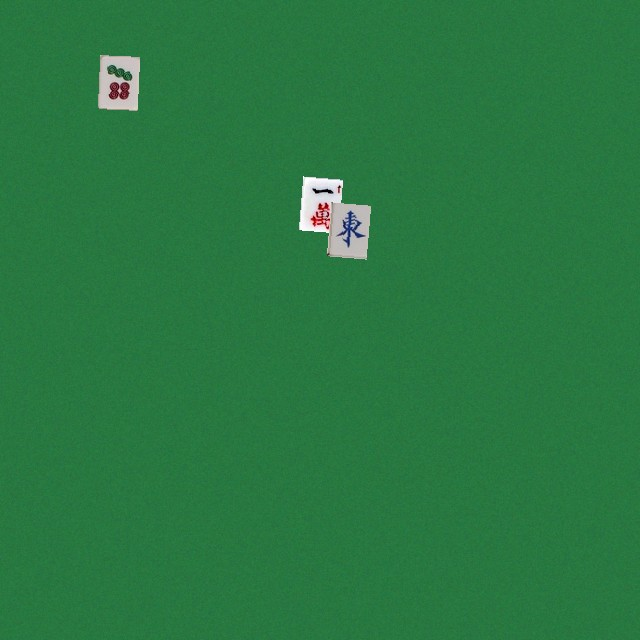tile: (298, 176, 338, 230), (326, 202, 366, 256), (97, 55, 137, 109)
